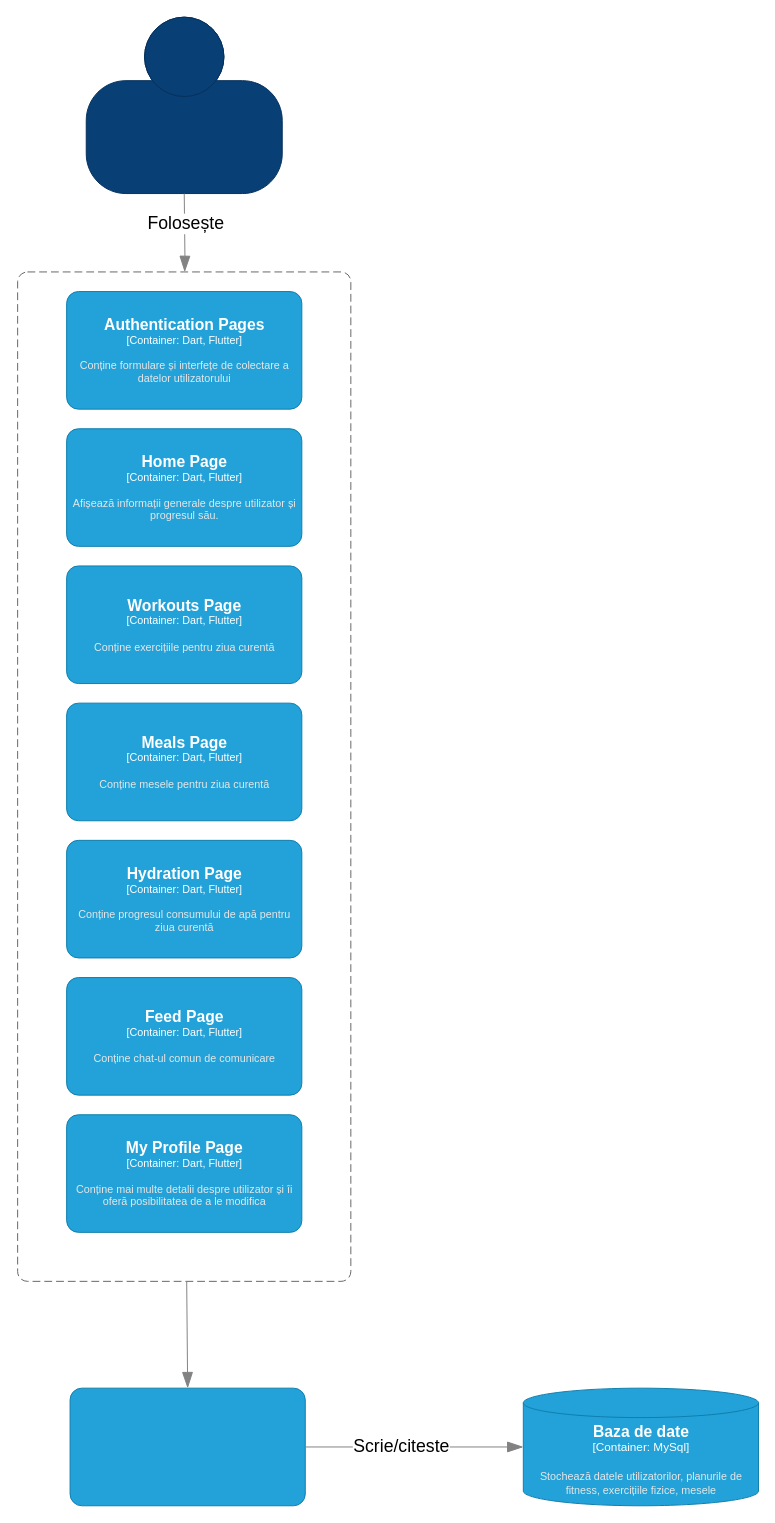
Some shapes in this 775 by 1523 pixel diagram are drawn without their labels. Each missing label, with the box of its shape:
Aplicația Mobilă [Container]: (17, 271, 351, 1281)
FitnessGoal API [Container: Dart, PHP] (Backend): (69, 1387, 305, 1506)
Utilizatorul [Person] Utilizatorul care dorește să urmeze un plan de fitness: (85, 16, 282, 194)
